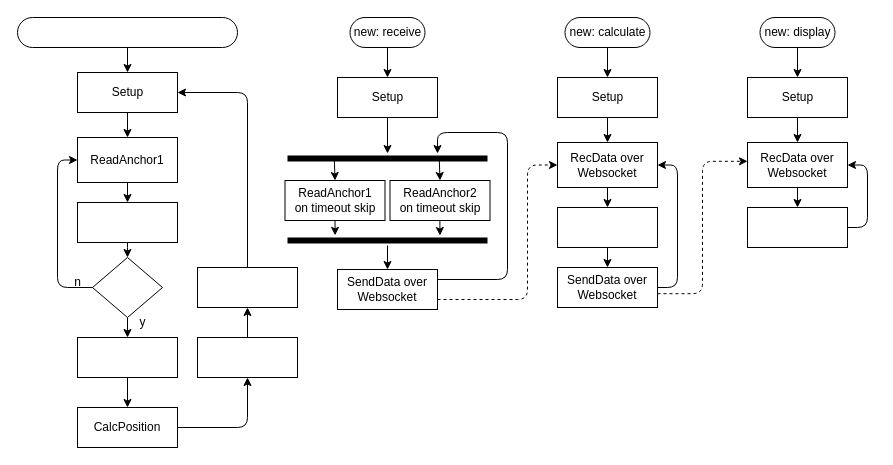
This 893x465 diagram has some shape labels left out. The centre of each missing label's shape, as x and y in pixels:
"3 Werte?" belongs at [127,287].
"CalcPosition from Data" belongs at [607,227].
"Display Data" belongs at [797,227].
"legacy: Receive Calculate and display" belongs at [127,32].
"Mittelwert berechnen" belongs at [127,357].
"ReadAnchor2" belongs at [127,222].
"Render Frame" belongs at [247,357].
"Save Frame" belongs at [247,287].
